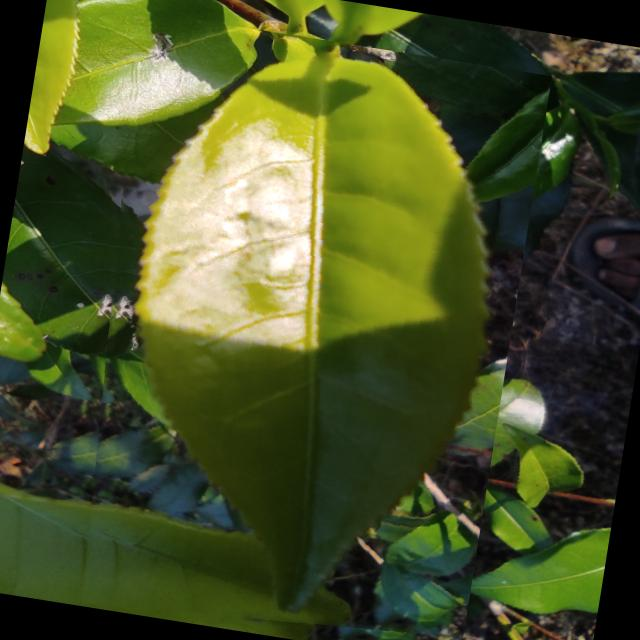Category B(2-4 days): (47, 10, 552, 640)
